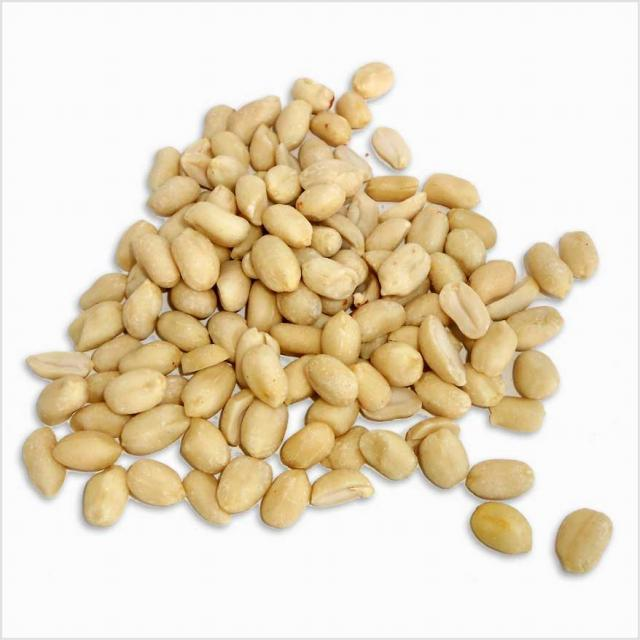Frutta secca: (28, 67, 618, 580)
